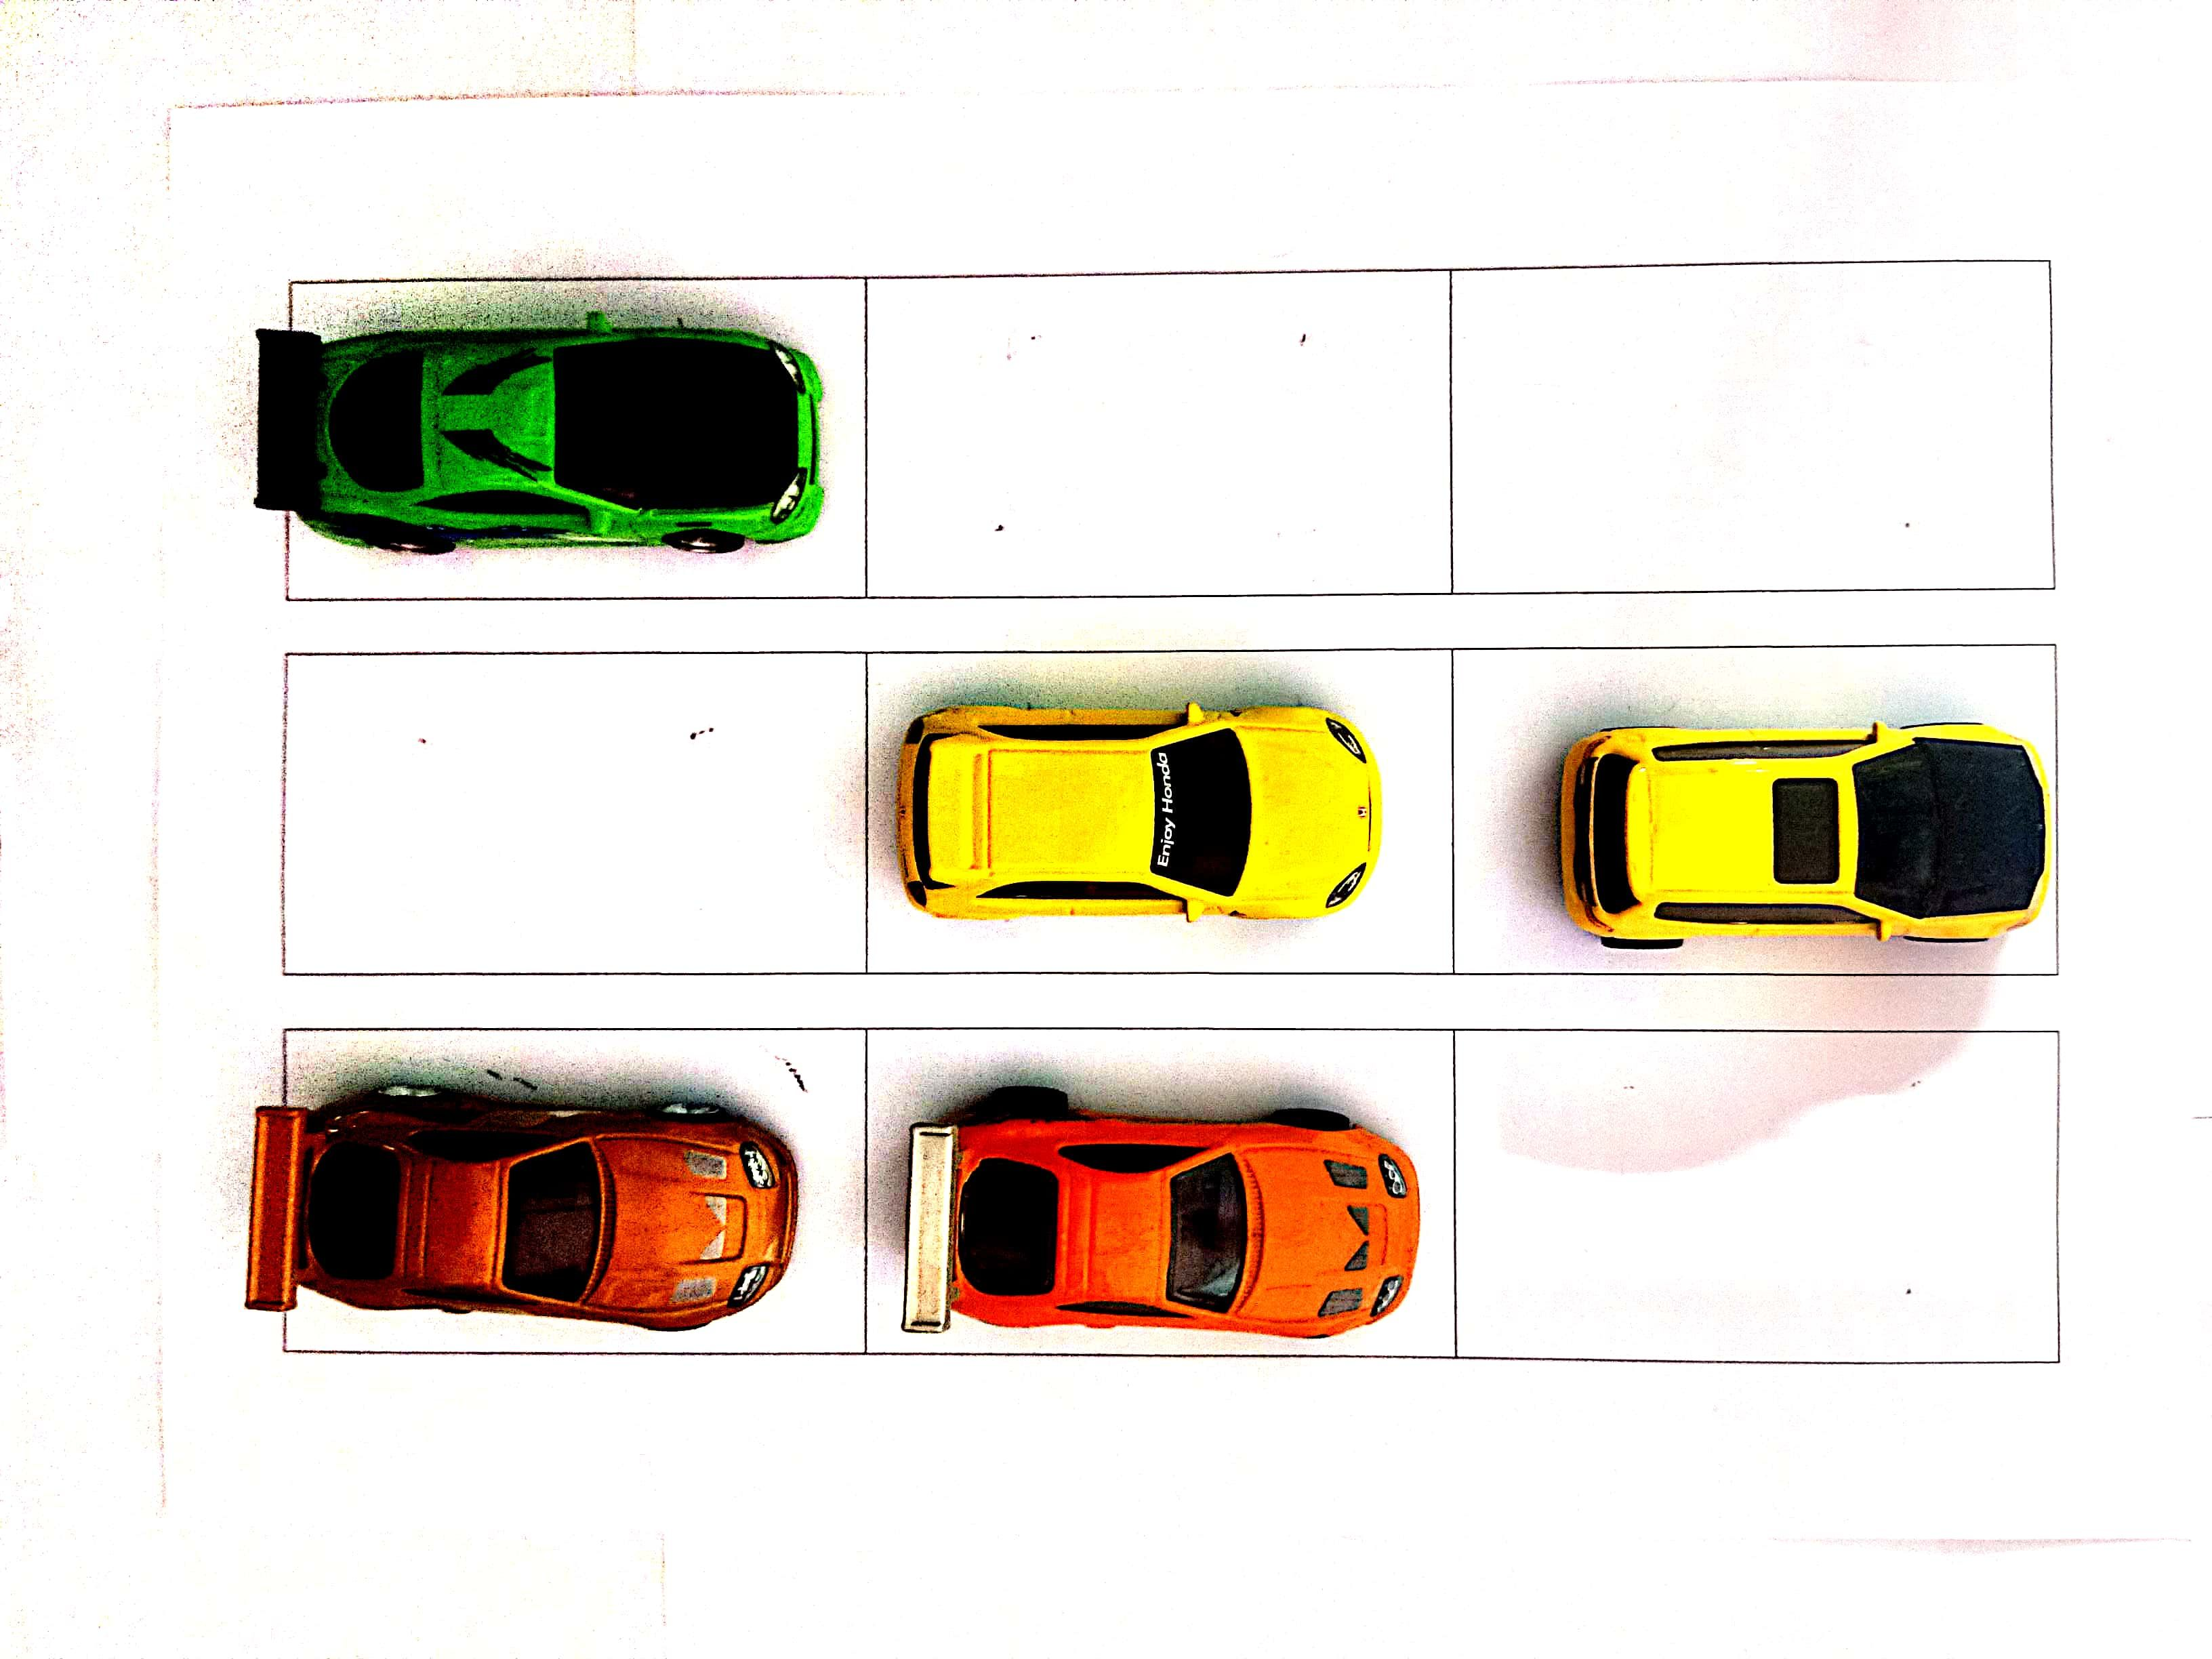Busy: (1446, 641, 2055, 972), (279, 1026, 862, 1358), (866, 1026, 1451, 1354), (866, 648, 1446, 972), (287, 284, 862, 598)
Free: (1458, 263, 2047, 593), (1458, 1032, 2050, 1358), (862, 275, 1446, 593), (279, 657, 869, 967)
